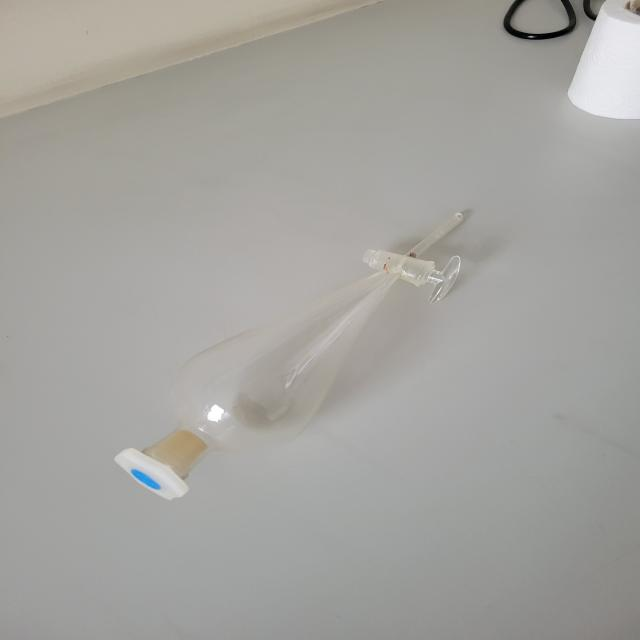Separating_Funnel: (66, 150, 519, 517)
